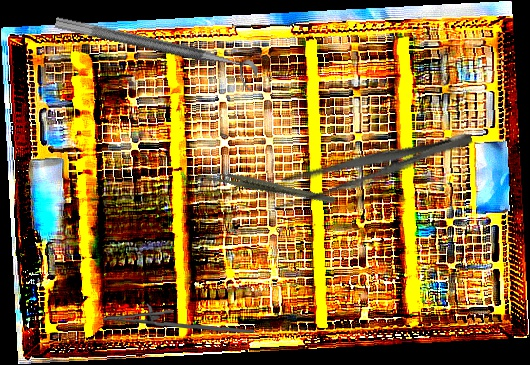Dressing Forceps: (267, 121, 477, 215)
Fixation Ring: (50, 15, 260, 93)
Needle Holder: (102, 299, 255, 340)
Tissue Forceps: (202, 147, 337, 228)
